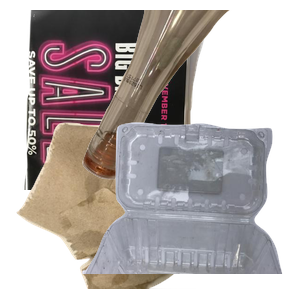glass: (80, 10, 300, 182)
paper: (22, 10, 225, 190)
plastic: (80, 120, 300, 300)
trash: (14, 120, 222, 300)
